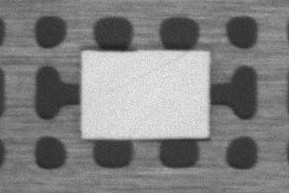DIE_CRACK: (156, 36, 277, 63)
